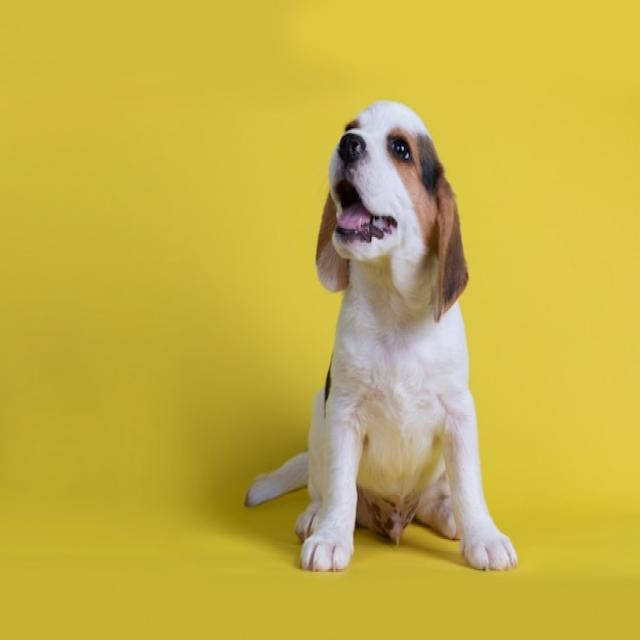Dog: (245, 98, 518, 574)
